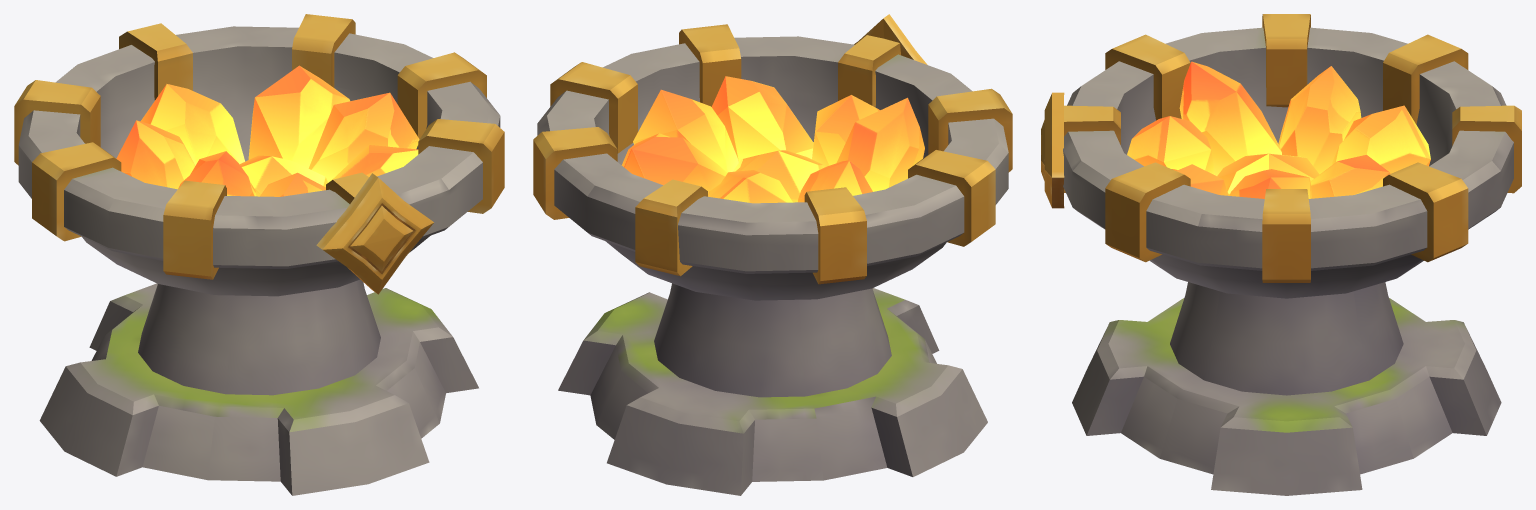
File: 05-01_Brazier.fbx
3 renders of one model, left to right at view 1: azimuth 30°, elevation 25°; view 2: azimuth 150°, elevation 25°; view 3: azimuth 270°, elevation 25°, orthographic. The views are drawn at different scales.
Parts seen in each view (by area): view 1: 05-01_Brazier; view 2: 05-01_Brazier; view 3: 05-01_Brazier.
Part boxes in pixels (bbox=[...]): 05-01_Brazier: bbox=[14, 14, 504, 495]; 05-01_Brazier: bbox=[533, 14, 1012, 495]; 05-01_Brazier: bbox=[1041, 14, 1521, 495].
Bounding box in the file's own units: 2.27 × 1.59 × 2.23.
Materials: 1 (1 with a texture image).
